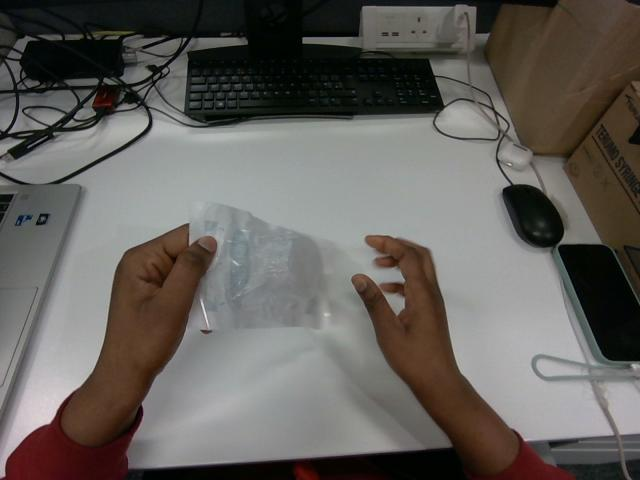gallipot: (189, 202, 330, 329)
